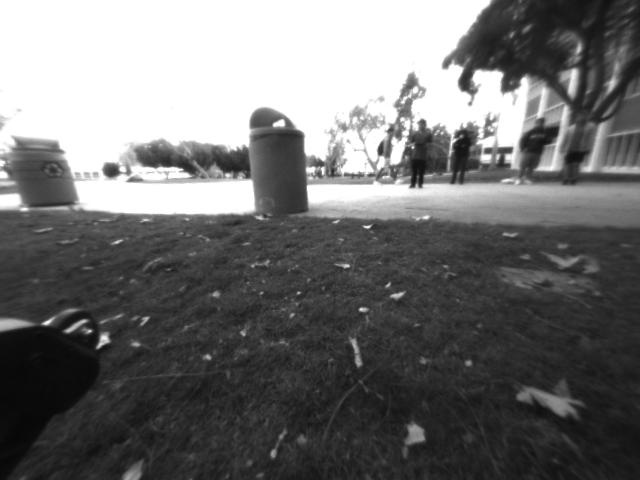trashcan: (243, 104, 320, 224)
